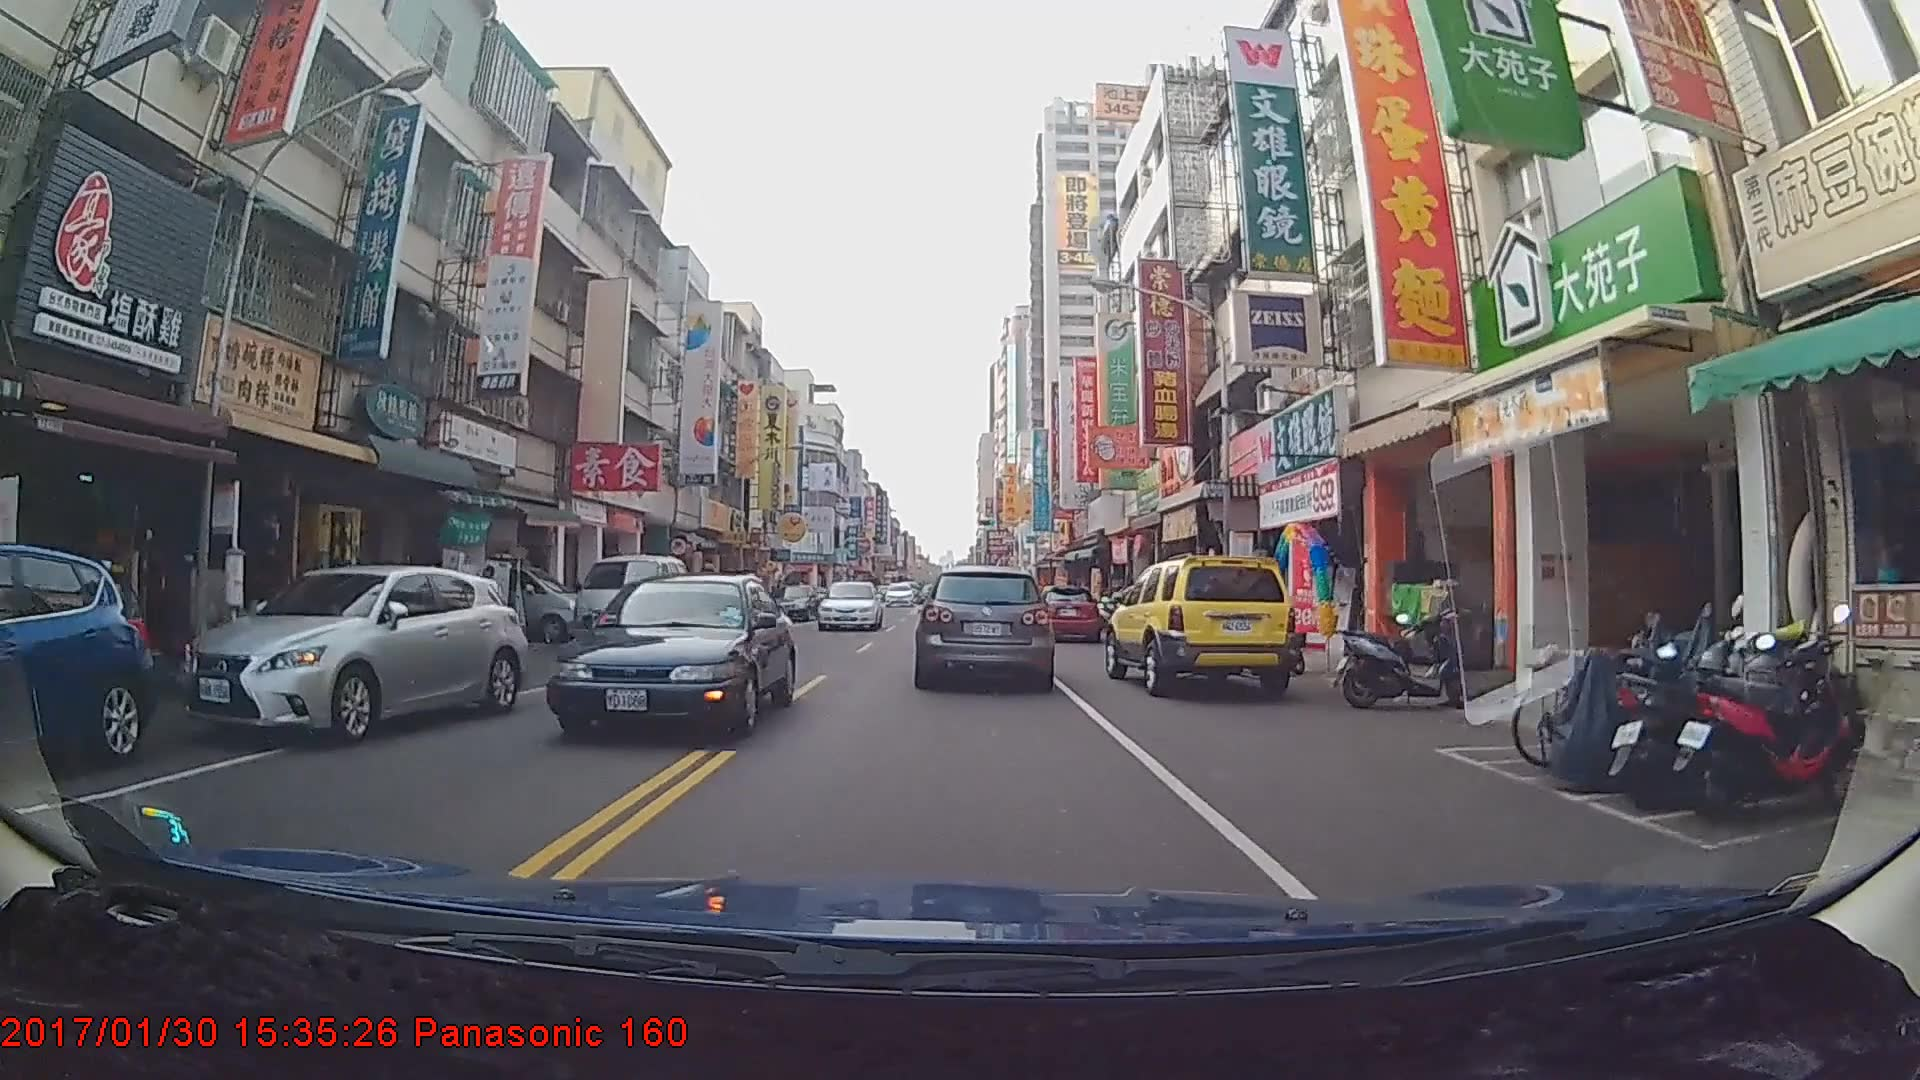vehicle: (177, 566, 527, 746), (539, 570, 803, 736), (0, 542, 157, 787), (1106, 549, 1299, 695), (916, 564, 1052, 687), (571, 554, 688, 655), (1031, 585, 1100, 641), (815, 579, 882, 632), (885, 584, 915, 608)
